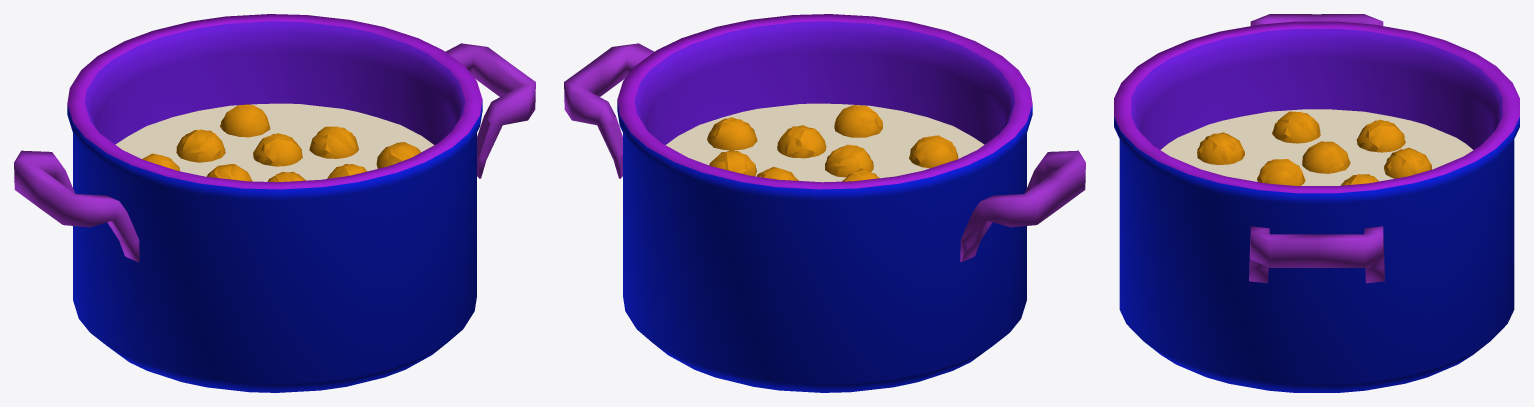
The model's file is pot_with_bitterballen_model.fbx.
The picture shows the model from 3 angles, left to right: view 1: azimuth 30°, elevation 25°; view 2: azimuth 150°, elevation 25°; view 3: azimuth 270°, elevation 25°; orthographic projection.
Parts seen in each view (by area): view 1: BitterballenPot, Oil, BitterballenInPotModel; view 2: BitterballenPot, Oil, BitterballenInPotModel; view 3: BitterballenPot, Oil, BitterballenInPotModel.
Boxes of the visible parts, x1,y1,x2,y2 form: BitterballenPot: (14,14,535,392); Oil: (115,103,433,181); BitterballenInPotModel: (142,104,420,182); BitterballenPot: (564,14,1085,392); Oil: (666,103,984,182); BitterballenInPotModel: (707,105,958,181); BitterballenPot: (1114,14,1519,392); Oil: (1160,109,1473,185); BitterballenInPotModel: (1197,111,1431,185).
Bounding box in the file's own units: 62.94 × 83.38 × 35.99.
